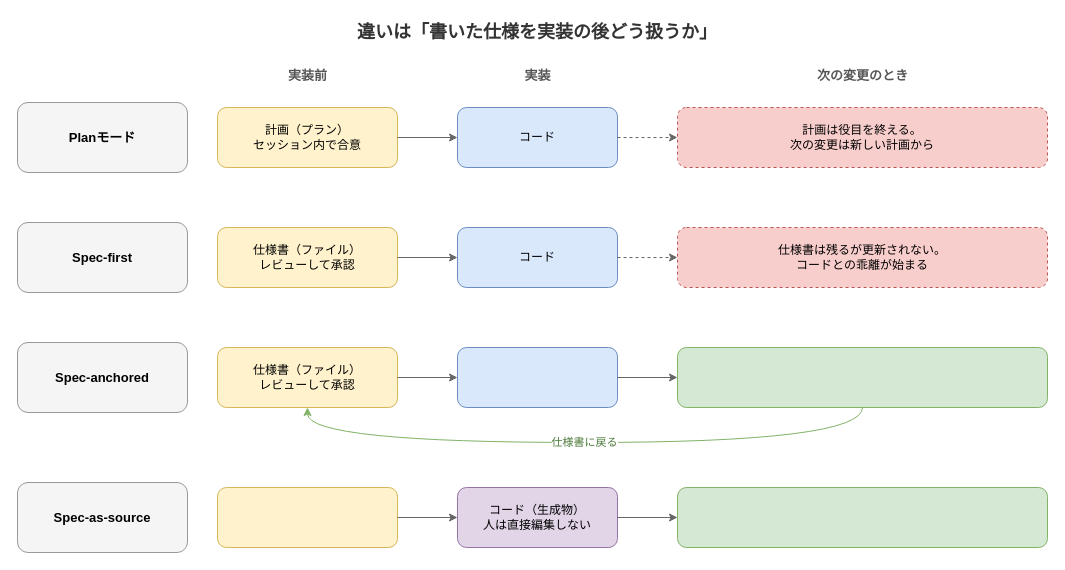
Some shapes in this 1065 by 570 pixel diagram are drawn without their labels. The shapes that lost their labels are listed below. From the top down, each one's box as (x1, y1, x2, y2) in pixels, then its label:
(456, 346, 618, 408): コード （人も編集する）
(676, 346, 1048, 408): 先に仕様書を直してから実装する。 仕様書とコードを一緒に保守する
(216, 486, 398, 548): 仕様書が主な正本 人が編集するのはここだけ
(676, 486, 1048, 548): 仕様書を直してコードを生成し直す
